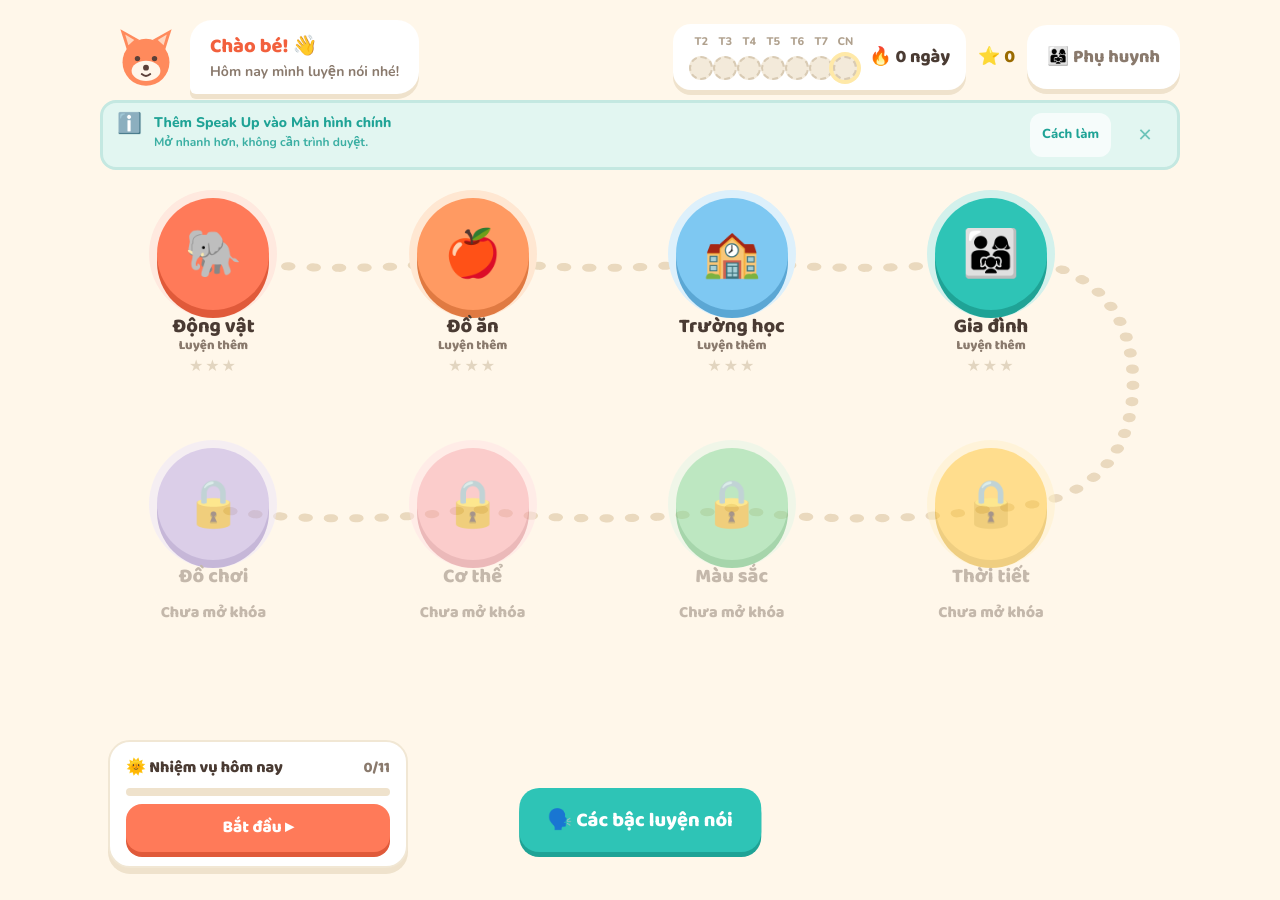
Phase 11: the Add-to-Home-Screen nudge › "Cách làm" expands the how-to text in place
Expected: the message with test id "a2hs-banner" shows "Mở nhanh hơn, không cần trình duyệt.", [154,134,368,150]
Click the button "Cách làm". click: (1071, 135)
box: [1030,113,1111,157]
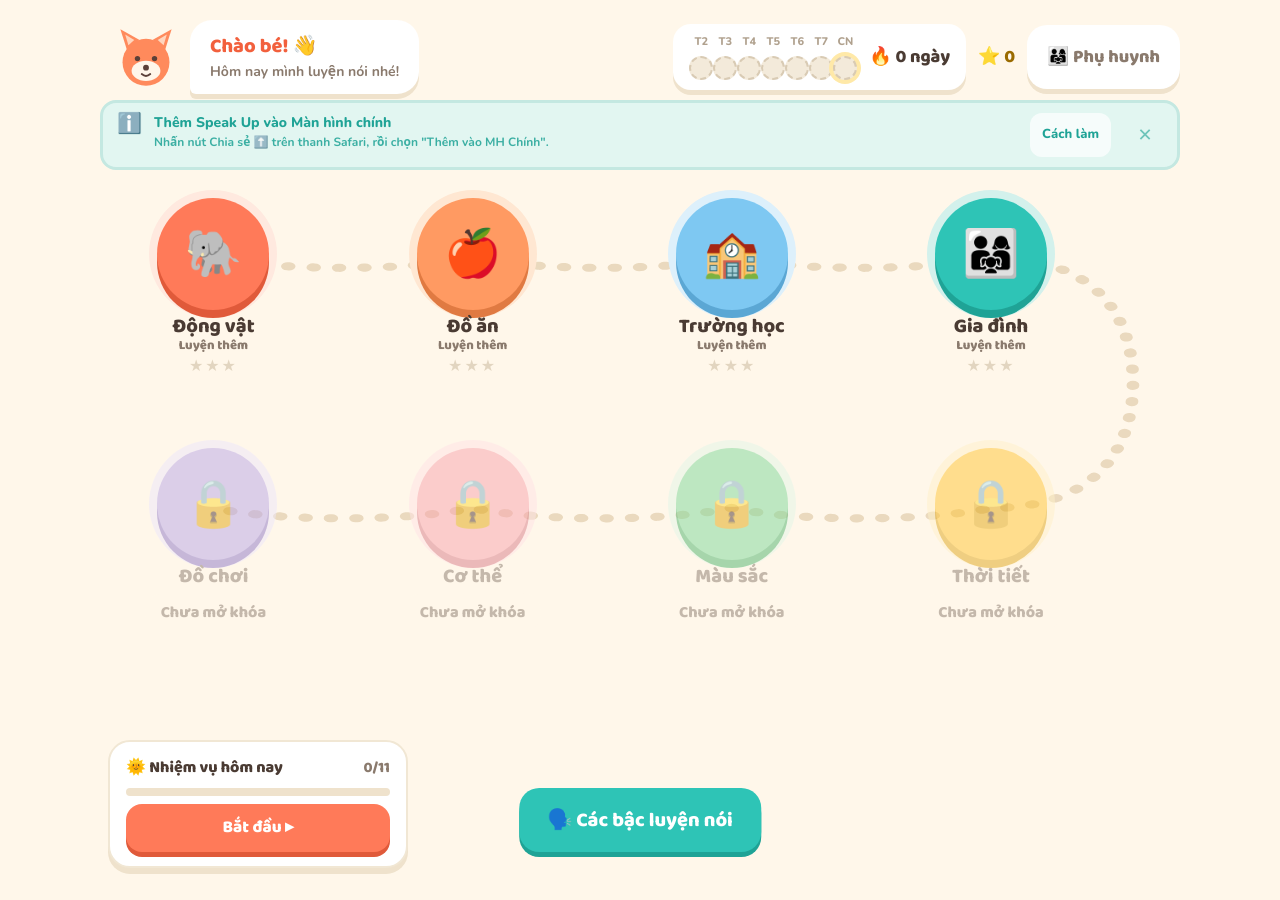
Expected: the message with test id "a2hs-banner" shows "Chia sẻ", [154,134,549,150]
